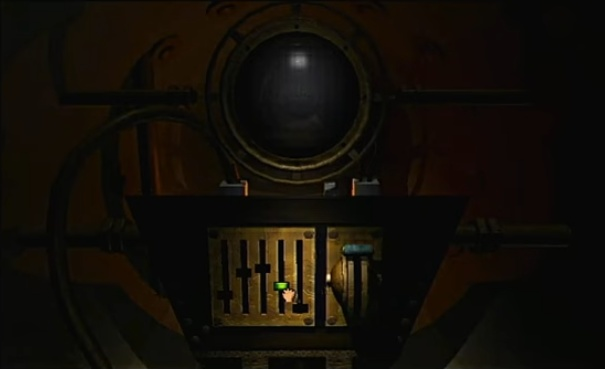Hold: (279, 284, 300, 304)
